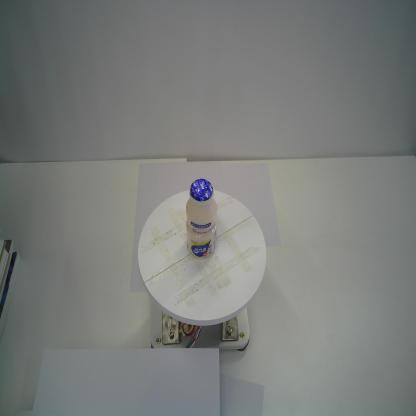Milk: (185, 178, 217, 260)
